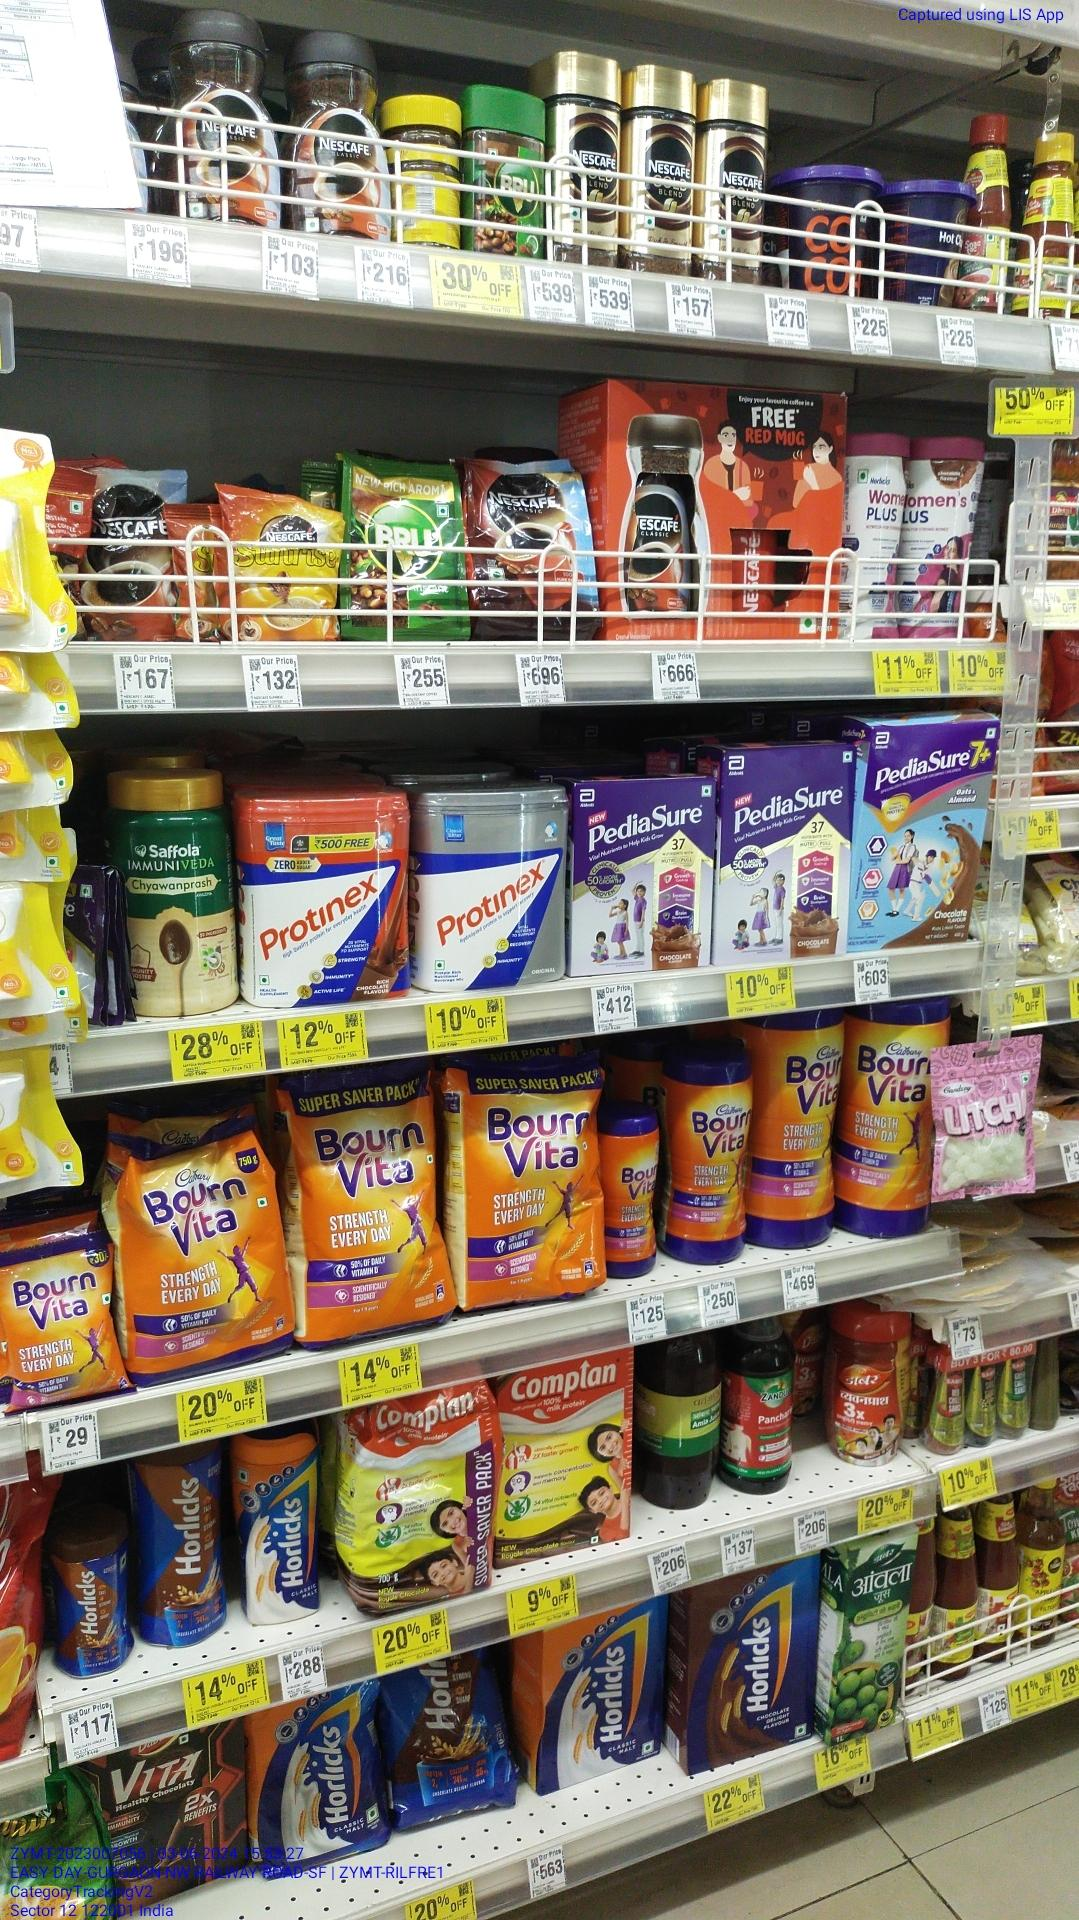BOURN_VITA_1_KG_JAR: (847, 1011, 938, 1238), (752, 1015, 838, 1241)
BOURN_VITA_200_G_JAR: (607, 1124, 660, 1282)
BOURN_VITA_500_G_JAR: (662, 1050, 745, 1267)
BOURN_VITA_750_G_POUCH: (290, 1079, 456, 1332), (460, 1060, 621, 1302), (121, 1146, 293, 1362)
BOURN_VITA_75_G_POUCH: (0, 1245, 113, 1402)
COMPLAN_CHOCOLATE_500_GMS_PACK: (496, 1369, 636, 1553)
COMPLAN_RC_POUCH_700_GMS_12: (347, 1400, 496, 1605)
HORLICK_CHOCOLATE_1_KG_PACK: (686, 1588, 814, 1759)
HORLICK_CHOCOLATE_200_G_JAR: (54, 1539, 129, 1673)
HORLICK_CHOCOLATE_500_G_JAR: (133, 1458, 226, 1650)
HORLICK_CHOCOLATE_750_G_POUCH: (392, 1654, 532, 1821)
HORLICK_CLASSIC_MALT_500_G_JAR: (241, 1437, 324, 1623)
HORLICK_CLASSIC_MALT_750_G_POUCH: (249, 1693, 379, 1849)
PEDIASURE_7_PLUS_CHOCOLATE_400_G_PACK: (863, 723, 979, 945)
PEDIASURE_CHOCOLATE_500_G_PACK: (720, 750, 847, 959), (578, 787, 711, 969)
PROTINEX_CHOCOLATE_400_G_JAR: (241, 798, 408, 1000)
PROTINEX_ORIGINAL_400_G_JAR: (419, 796, 569, 989)
